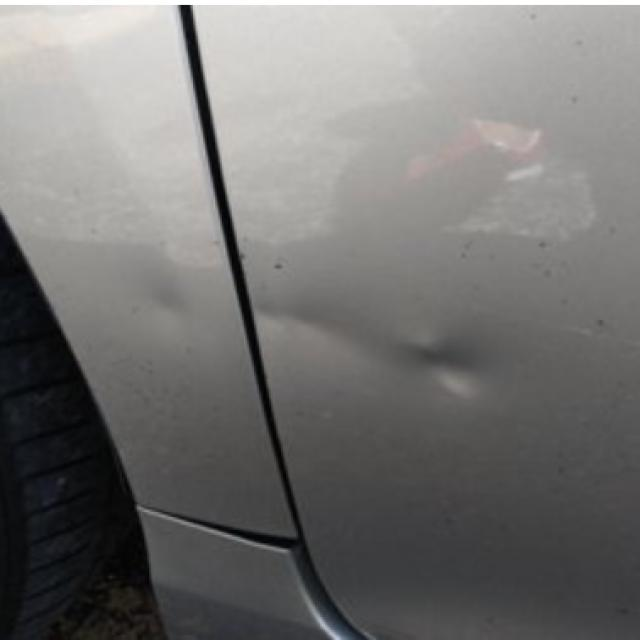dents: (398, 312, 521, 428), (235, 273, 357, 388), (117, 254, 237, 364)
